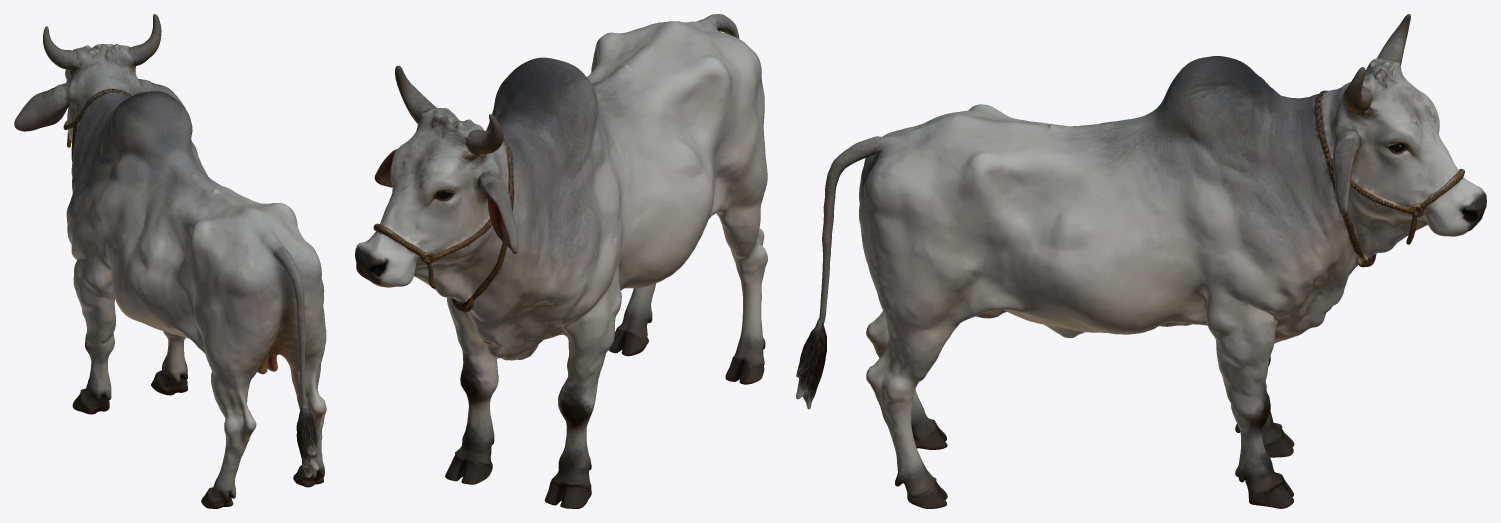
Rendered from cow.glb.
3 views of the same model, side by side, from view 1: azimuth 30°, elevation 25°; view 2: azimuth 150°, elevation 25°; view 3: azimuth 270°, elevation 25° (orthographic). The views are drawn at different scales.
Visible parts, largest first — view 1: tripo_node_37237a0a-20b3-4022-8df4-11d95f400ecb; view 2: tripo_node_37237a0a-20b3-4022-8df4-11d95f400ecb; view 3: tripo_node_37237a0a-20b3-4022-8df4-11d95f400ecb.
Part boxes in pixels (x1,y1,x2,y2): tripo_node_37237a0a-20b3-4022-8df4-11d95f400ecb: (14,14,326,508); tripo_node_37237a0a-20b3-4022-8df4-11d95f400ecb: (355,14,767,508); tripo_node_37237a0a-20b3-4022-8df4-11d95f400ecb: (796,14,1486,508).
Bounding box in the file's own units: 0.7223 × 1.5 × 2.11.
1 material, 1 textured.
